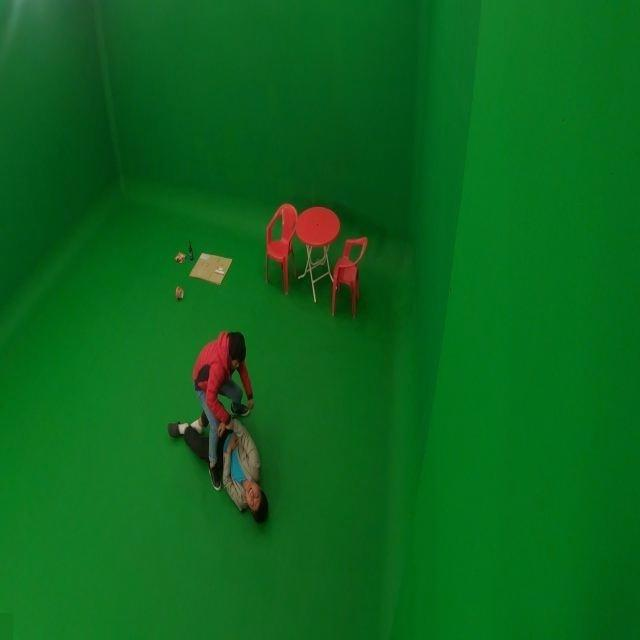fight: (167, 325, 271, 524)
